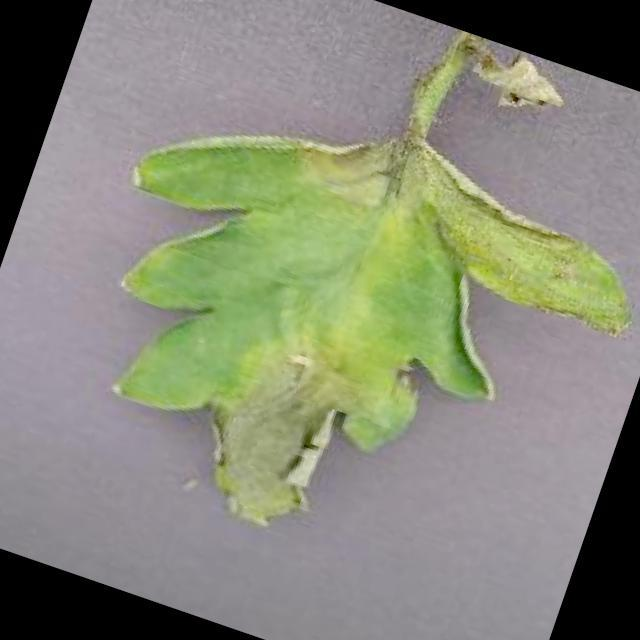Tomato late blight leaf: (32, 50, 640, 630)
